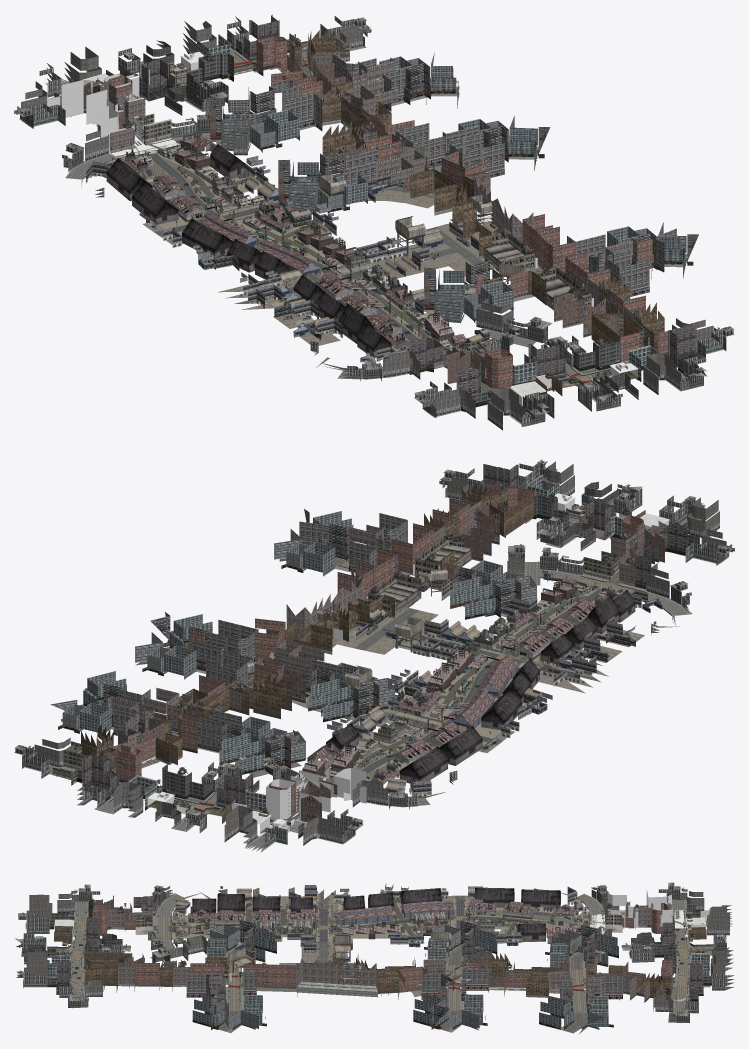
Rendered from city_italy.glb.
The picture shows the model from 3 angles, top to bottom: view 1: azimuth 30°, elevation 25°; view 2: azimuth 150°, elevation 25°; view 3: azimuth 270°, elevation 25°; orthographic projection. The views are drawn at different scales.
Bounding box in the file's own units: 450 × 45.92 × 941.
100 materials, 99 textured.
